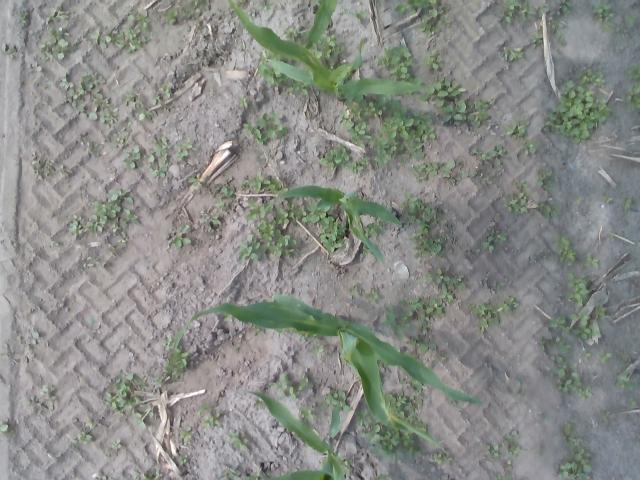Maize: (172, 294, 484, 454), (228, 1, 434, 100), (266, 186, 402, 268), (248, 391, 346, 480), (304, 0, 338, 48)
Weeds: (530, 303, 606, 399), (338, 98, 436, 168), (64, 188, 140, 270), (542, 68, 614, 144), (238, 202, 310, 260), (383, 296, 448, 360), (420, 74, 492, 128), (402, 190, 458, 259), (499, 0, 574, 49), (58, 71, 119, 130), (104, 371, 154, 430), (90, 8, 152, 55), (553, 420, 595, 480), (146, 135, 198, 180), (467, 295, 522, 337), (394, 0, 454, 38), (368, 421, 418, 460), (410, 160, 477, 188), (311, 204, 347, 254), (240, 112, 290, 148), (471, 144, 508, 188), (156, 338, 188, 388), (37, 25, 80, 62), (425, 268, 467, 305), (31, 151, 74, 182), (376, 44, 412, 80), (270, 371, 314, 400), (502, 176, 532, 218), (124, 89, 158, 123), (486, 430, 524, 460), (386, 392, 423, 420), (566, 272, 594, 309), (212, 170, 236, 211), (77, 131, 112, 159), (241, 170, 280, 194), (594, 1, 618, 36), (319, 144, 349, 172), (199, 399, 225, 431), (318, 34, 343, 67), (29, 384, 57, 412), (556, 233, 576, 269), (482, 228, 508, 255), (324, 388, 352, 412), (170, 224, 193, 252), (200, 206, 222, 235), (112, 122, 134, 150), (536, 200, 564, 222), (349, 284, 379, 304), (228, 429, 252, 454), (536, 167, 559, 193), (122, 144, 144, 171), (245, 200, 268, 225), (624, 80, 640, 114), (507, 119, 532, 140), (44, 5, 70, 24), (65, 432, 94, 448), (580, 250, 602, 270), (364, 219, 384, 240), (356, 406, 370, 436), (488, 465, 516, 480), (616, 370, 636, 390), (504, 46, 526, 64), (348, 156, 370, 174), (182, 0, 202, 19), (424, 52, 442, 73), (286, 82, 310, 97), (162, 7, 180, 26), (14, 9, 32, 27), (134, 470, 166, 480), (400, 377, 420, 392), (218, 468, 242, 480), (522, 140, 540, 156), (625, 59, 640, 78), (181, 425, 196, 444), (354, 9, 370, 26), (257, 66, 274, 82), (284, 26, 301, 42), (1, 44, 19, 59), (154, 94, 170, 110), (300, 406, 316, 422), (0, 344, 14, 362), (310, 342, 324, 360), (243, 467, 262, 480), (432, 453, 454, 464), (187, 172, 202, 188), (30, 330, 42, 348), (158, 84, 172, 99), (27, 62, 44, 74), (236, 96, 252, 108), (624, 14, 636, 29), (514, 378, 524, 396), (468, 248, 481, 261), (111, 438, 125, 450), (492, 281, 507, 292), (0, 420, 9, 438), (623, 198, 633, 214), (539, 410, 550, 424), (602, 351, 613, 365), (602, 194, 616, 205), (259, 3, 274, 13), (84, 417, 94, 431), (239, 332, 249, 345), (86, 315, 96, 327), (374, 473, 390, 480), (536, 444, 544, 458), (202, 0, 212, 11), (626, 398, 638, 407), (542, 252, 552, 262), (600, 411, 611, 420), (50, 241, 60, 250), (252, 327, 262, 336), (573, 198, 582, 208), (179, 456, 188, 465), (224, 314, 232, 324), (237, 0, 250, 6), (621, 352, 629, 361), (609, 234, 616, 244), (236, 347, 240, 355)
